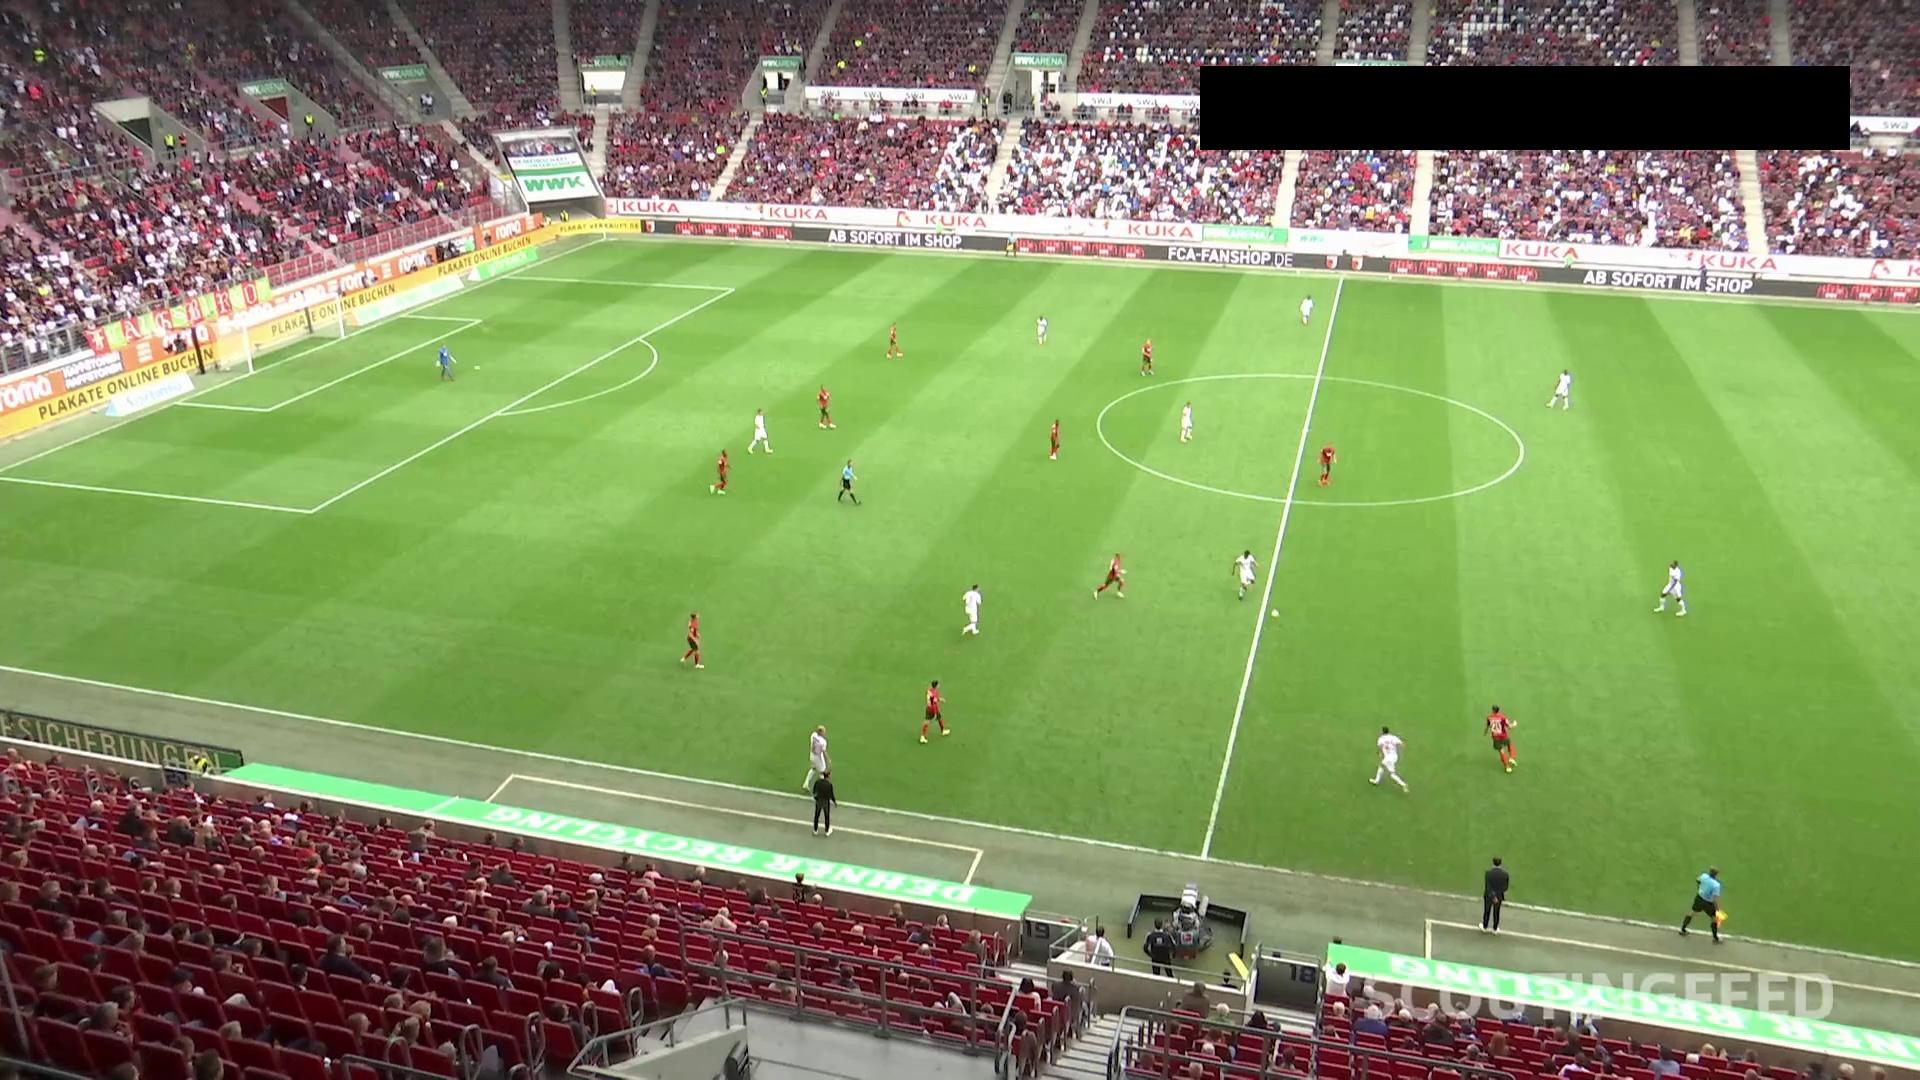Location-of-ball: (1261, 596, 1292, 632)
